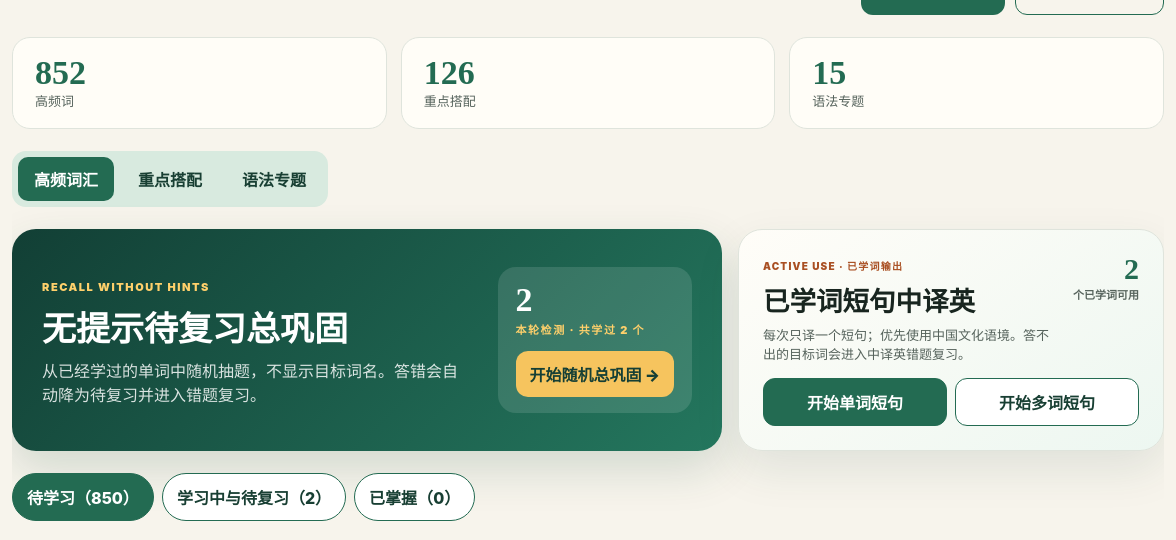
Scenario: KnowledgePage › adds only the wrong learned word from a multi-target translation
Step 1. Click the button "开始多词短句" → point(1047, 402), box [955,378,1139,426]
(page scrolled)
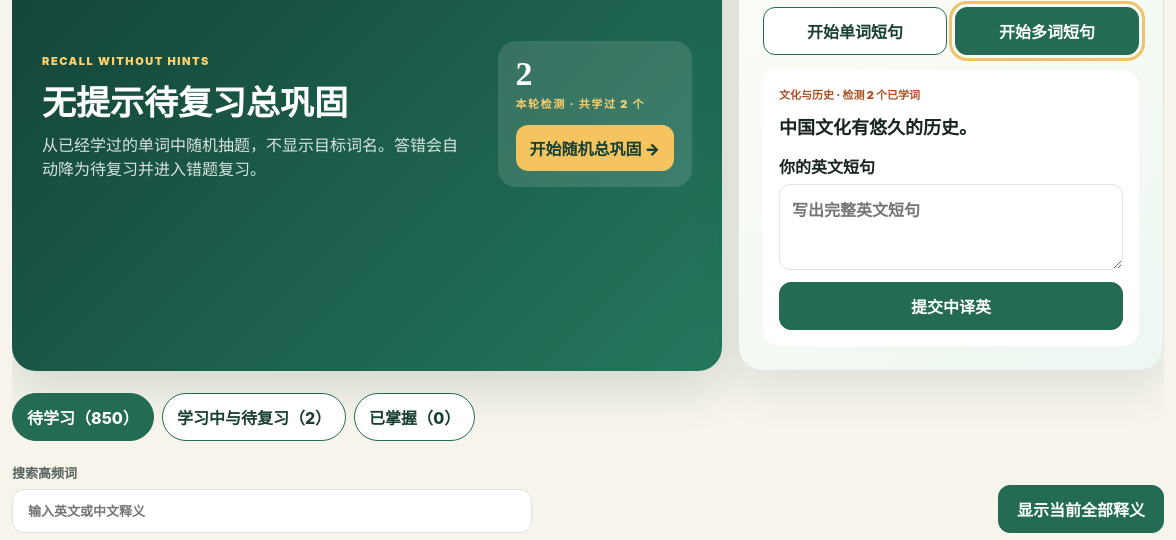
Step 2. Type "Chinese culture has a long story." into the text box named "英文短句答案" → point(951, 227), box [779,184,1123,270]
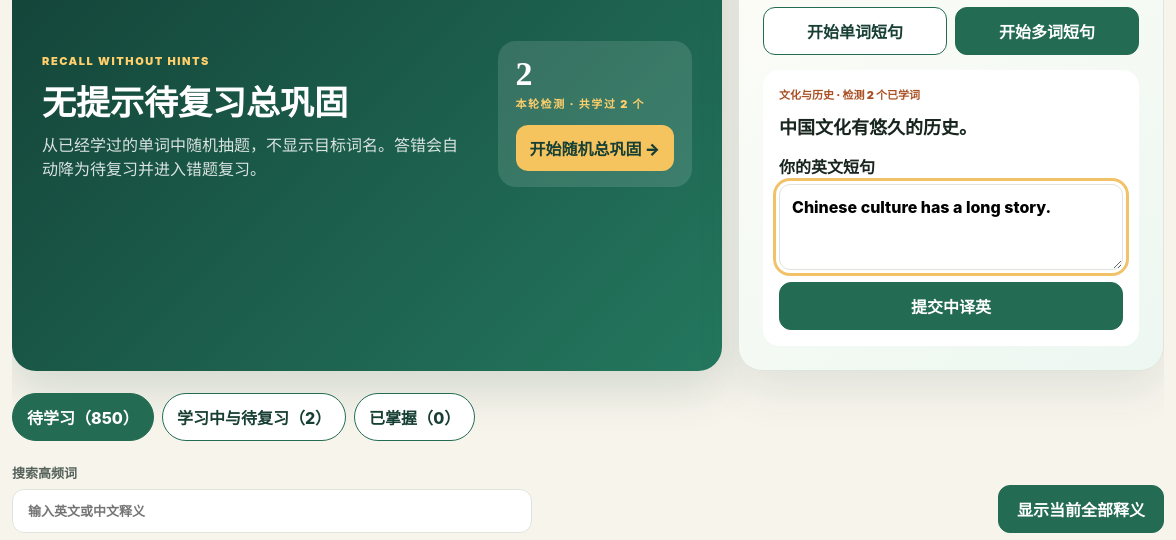
Step 3. Click the button "提交中译英" → point(951, 306), box [779,282,1123,330]
(page scrolled)
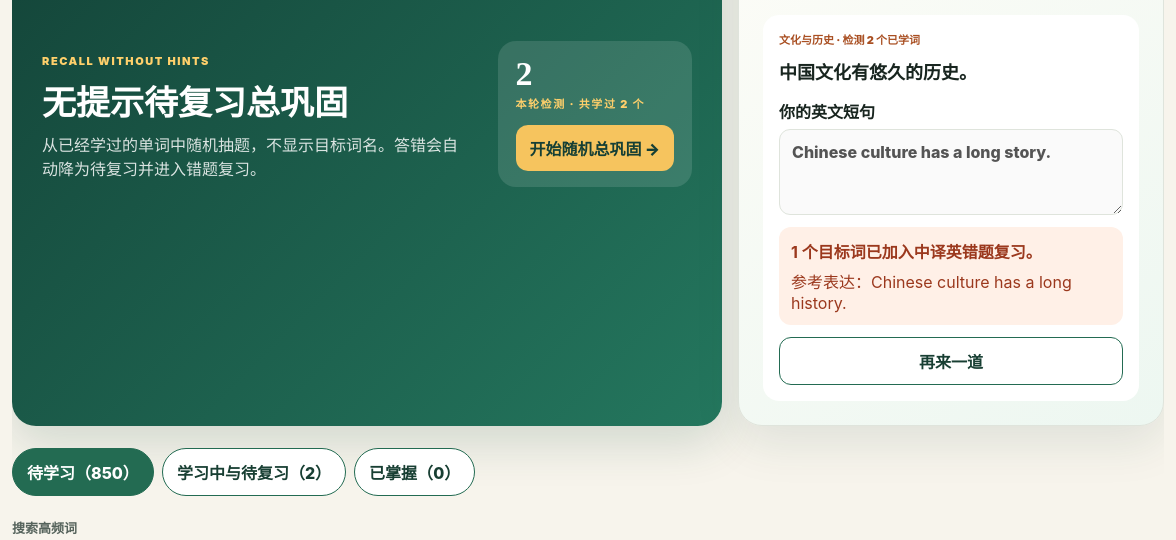
Now the text "1 个目标词已加入中译英错题复习。" is shown, box [791,242,1042,262]
